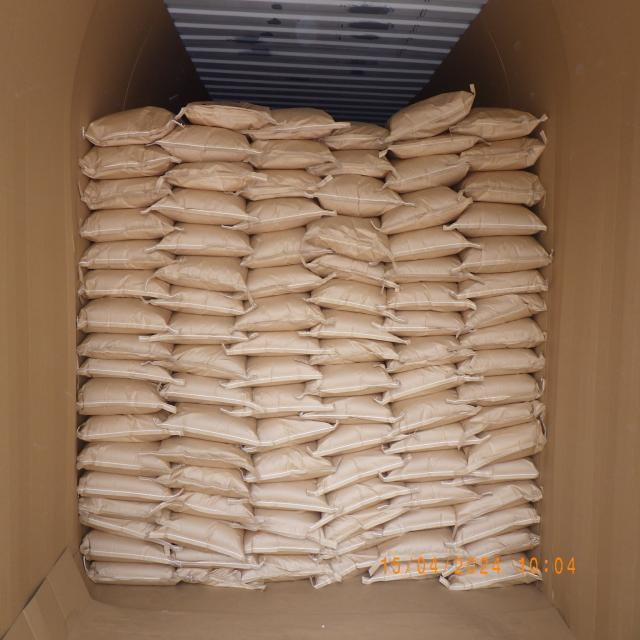gunny_bag: (384, 388, 482, 442), (150, 511, 250, 562), (320, 473, 410, 528), (460, 420, 548, 474), (314, 444, 405, 496), (302, 213, 396, 263), (384, 90, 474, 142), (157, 401, 260, 446), (452, 478, 542, 528), (304, 173, 400, 219), (379, 186, 470, 234), (307, 276, 402, 321), (378, 363, 476, 406), (152, 122, 254, 163), (322, 502, 409, 550), (147, 186, 251, 226), (301, 306, 407, 345), (84, 105, 180, 148), (152, 220, 256, 258), (150, 252, 248, 292), (382, 223, 480, 262), (382, 334, 477, 374), (454, 502, 540, 546), (456, 292, 546, 334), (456, 234, 550, 274), (239, 226, 328, 268), (444, 552, 542, 590), (227, 197, 327, 234), (242, 444, 334, 484), (77, 296, 173, 334), (154, 462, 252, 499), (230, 264, 328, 301), (156, 488, 256, 524), (242, 106, 342, 142), (80, 206, 176, 243), (153, 435, 254, 470), (455, 528, 539, 570), (227, 386, 333, 419), (232, 294, 324, 332), (80, 144, 174, 181), (307, 422, 409, 456), (382, 422, 483, 456), (77, 442, 175, 477), (448, 202, 546, 237), (244, 416, 334, 454), (384, 154, 469, 194), (80, 529, 174, 565), (374, 505, 479, 537), (301, 252, 393, 288), (78, 470, 178, 503), (158, 372, 252, 407), (78, 378, 168, 414), (304, 360, 394, 396), (456, 170, 546, 206), (224, 356, 322, 389), (237, 138, 338, 170), (154, 344, 246, 379), (148, 283, 245, 316), (232, 168, 329, 201), (451, 107, 542, 142), (76, 412, 175, 444), (374, 527, 462, 563), (300, 393, 401, 424), (380, 280, 477, 312), (158, 161, 258, 192), (318, 526, 404, 562), (238, 507, 326, 542), (152, 312, 248, 344), (80, 512, 170, 546), (386, 448, 476, 482), (459, 400, 545, 435), (454, 373, 544, 406), (80, 178, 172, 210), (80, 239, 174, 270), (178, 100, 272, 131), (459, 136, 544, 170), (76, 331, 172, 361), (239, 482, 329, 514), (454, 317, 544, 349), (313, 546, 381, 588), (80, 269, 172, 300), (456, 269, 550, 299), (382, 255, 482, 283), (240, 554, 333, 584), (386, 480, 479, 510), (373, 309, 475, 336), (77, 356, 174, 384), (385, 132, 481, 160), (225, 332, 328, 358), (79, 496, 172, 524), (310, 149, 398, 178), (455, 455, 540, 485), (306, 338, 400, 365), (453, 347, 543, 375), (366, 558, 454, 586), (84, 561, 180, 586), (170, 546, 261, 570), (322, 120, 394, 150), (174, 568, 262, 590), (242, 534, 330, 556)
